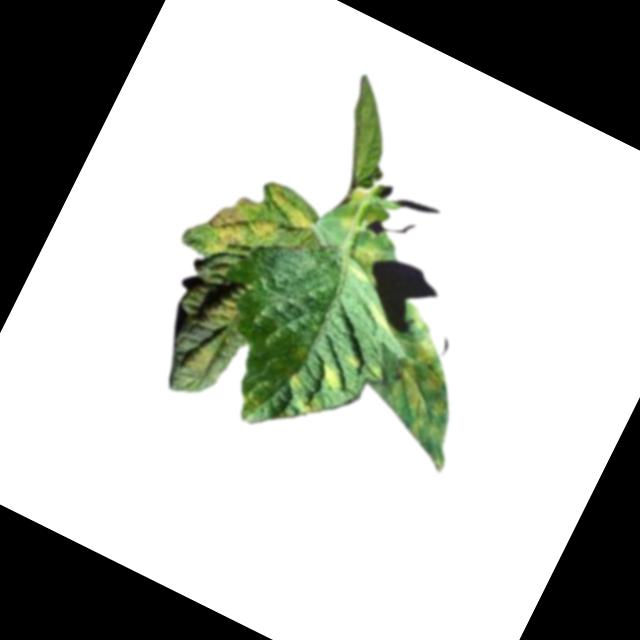Leaf_Mold: (350, 304, 504, 470), (195, 163, 319, 288), (178, 273, 252, 339), (178, 336, 227, 385), (346, 234, 391, 277), (317, 361, 354, 396)
